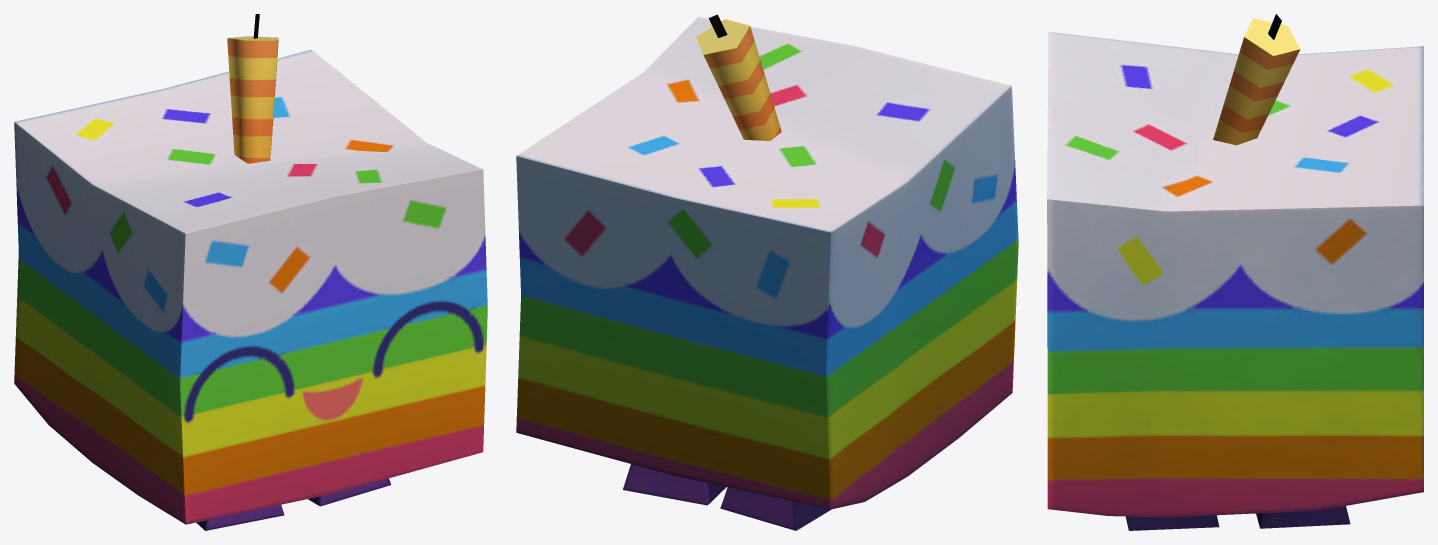
The model's file is pets_202.fbx.
3 renders of one model, left to right at view 1: azimuth 30°, elevation 25°; view 2: azimuth 150°, elevation 25°; view 3: azimuth 270°, elevation 25°, orthographic. The views are drawn at different scales.
Visible parts, largest first — view 1: Pets.202; view 2: Pets.202; view 3: Pets.202.
Boxes of the visible parts, x1,y1,x2,y2 form: Pets.202: [14, 14, 487, 530]; Pets.202: [516, 14, 1018, 530]; Pets.202: [1047, 14, 1423, 530].
Bounding box in the file's own units: 0.4048 × 0.3918 × 0.5513.
